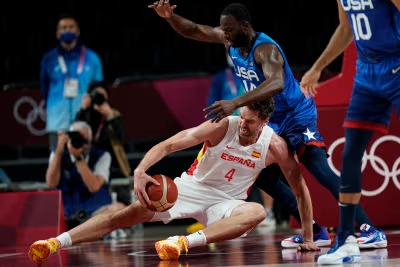basketball: (143, 172, 179, 211)
spain_player: (114, 96, 274, 254)
usa_player: (217, 4, 336, 238), (316, 1, 400, 265)
